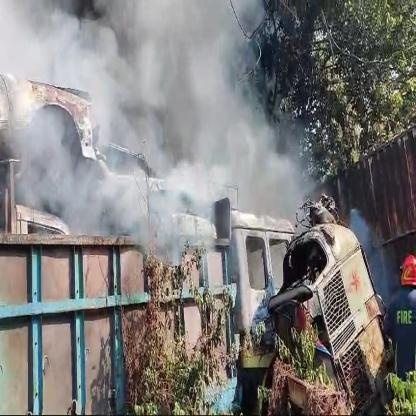Smoke: (0, 0, 344, 285)
